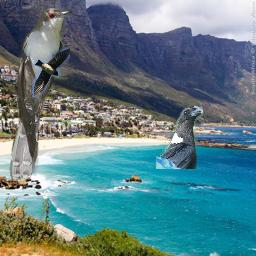Crow: (156, 106, 203, 169)
Cuckoo: (9, 6, 74, 180)
Swallow: (32, 47, 70, 98)
